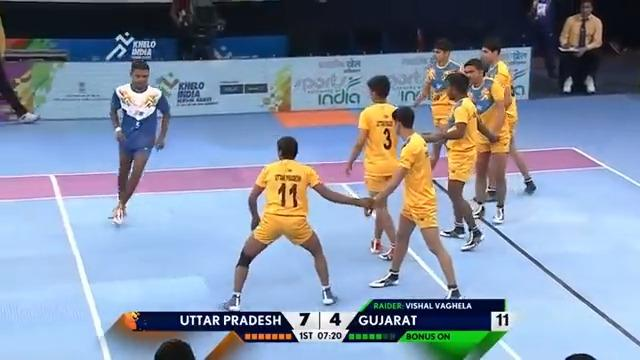Player: (219, 135, 375, 311), (367, 105, 463, 299), (421, 71, 503, 251), (343, 74, 401, 260), (479, 38, 536, 197), (461, 58, 508, 223), (412, 37, 464, 171), (0, 16, 40, 123)
Raider: (108, 59, 171, 224)
referee: (557, 0, 603, 94), (169, 0, 230, 60), (525, 0, 559, 78)
